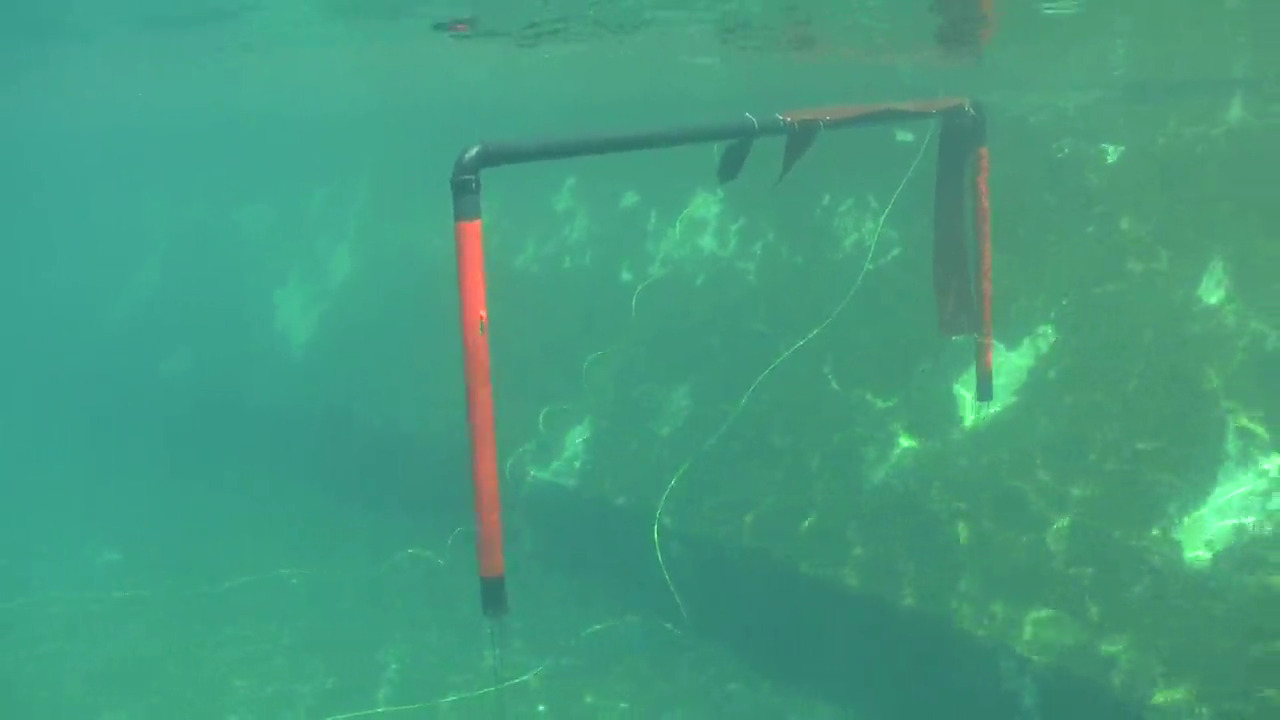gate: (446, 90, 1001, 630)
